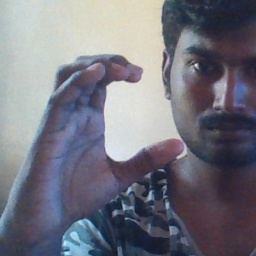C: (51, 50, 191, 181)
